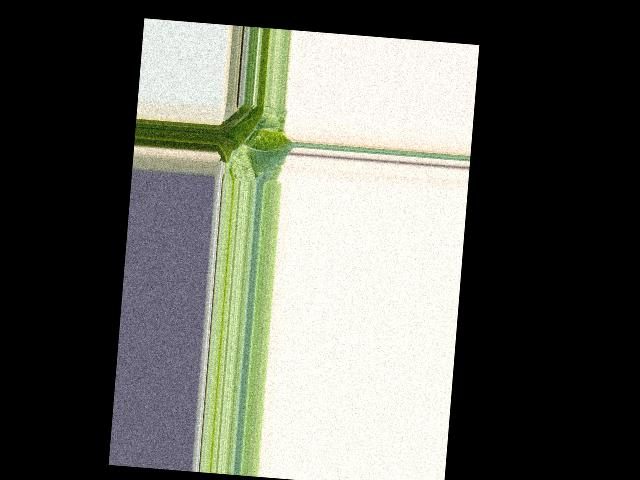lettuce: (214, 103, 291, 177)
